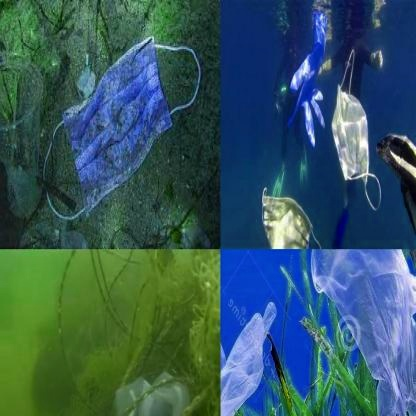Mask: (30, 25, 207, 239), (71, 349, 200, 415), (332, 46, 382, 210), (254, 186, 321, 249)
glove: (308, 249, 416, 416), (221, 292, 280, 416), (284, 10, 329, 154)
